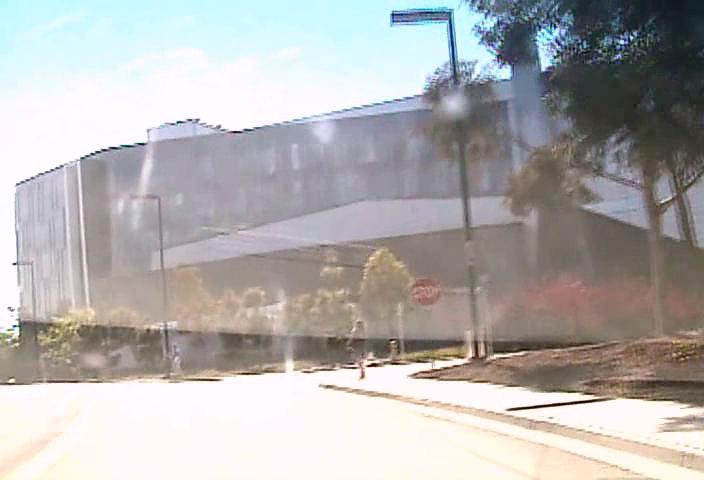stop: (409, 276, 441, 307)
